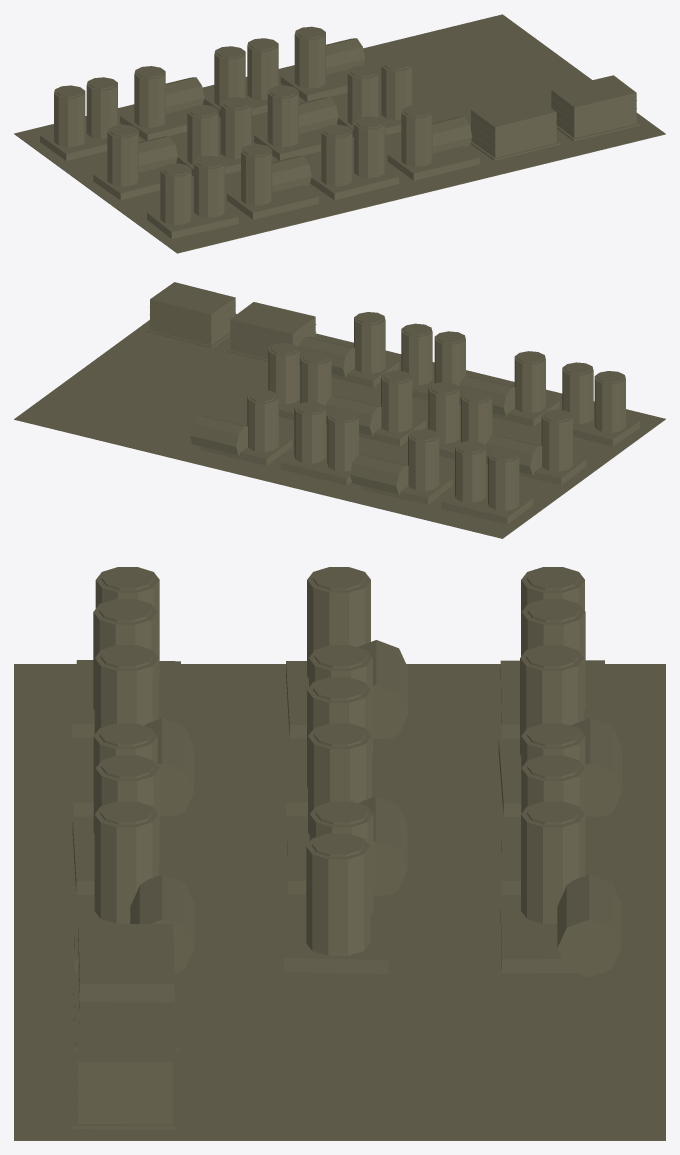
The model's file is SM_AcopioCombustible_v4_Quemado_LOD0.fbx.
The picture shows the model from 3 angles, top to bottom: view 1: azimuth 30°, elevation 25°; view 2: azimuth 150°, elevation 25°; view 3: azimuth 270°, elevation 25°; orthographic projection. The views are drawn at different scales.
Visible parts, largest first — view 1: SM_acopio_carga_v9_LOD0; view 2: SM_acopio_carga_v9_LOD0; view 3: SM_acopio_carga_v9_LOD0.
Boxes of the visible parts, x1,y1,x2,y2 form: SM_acopio_carga_v9_LOD0: [14, 14, 665, 253]; SM_acopio_carga_v9_LOD0: [14, 282, 665, 538]; SM_acopio_carga_v9_LOD0: [14, 567, 665, 1140].
Size of the model in its own units: 9.5 by 1.06 by 5.5.
